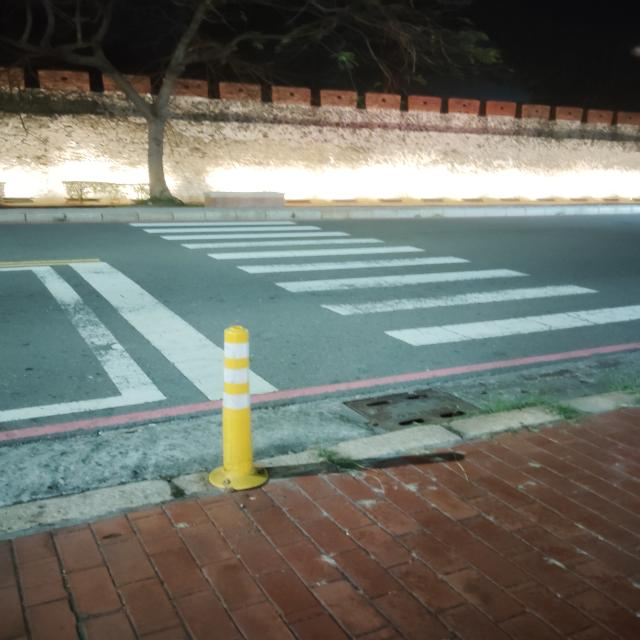zebra_crossing: (0, 50, 345, 399)
